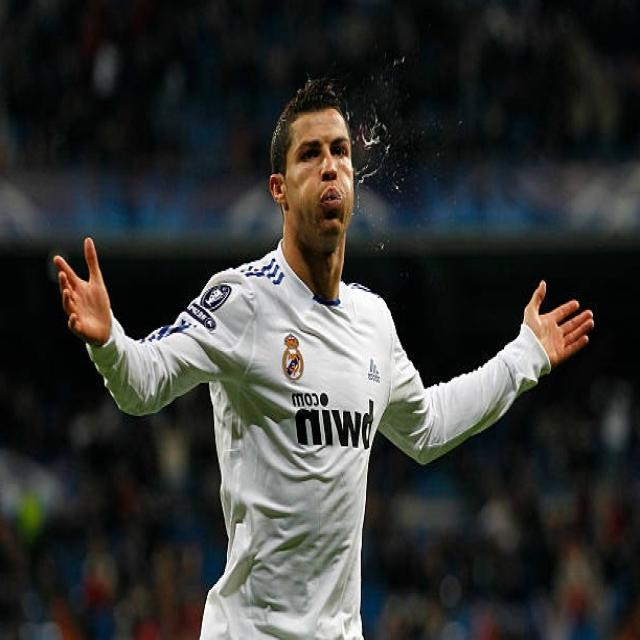Spitting: (255, 82, 390, 348)
